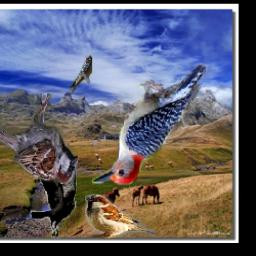Crow: (30, 149, 77, 239)
Sparrow: (0, 93, 79, 183), (85, 195, 157, 239)
Swallow: (70, 55, 93, 96)
Woodpecker: (93, 65, 207, 186)
